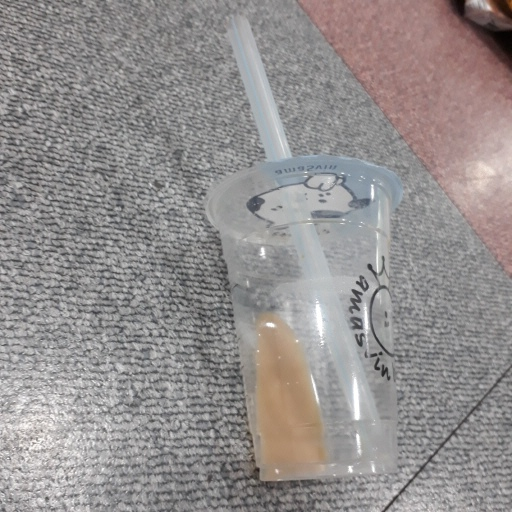Plastic_2: (204, 9, 410, 483)
